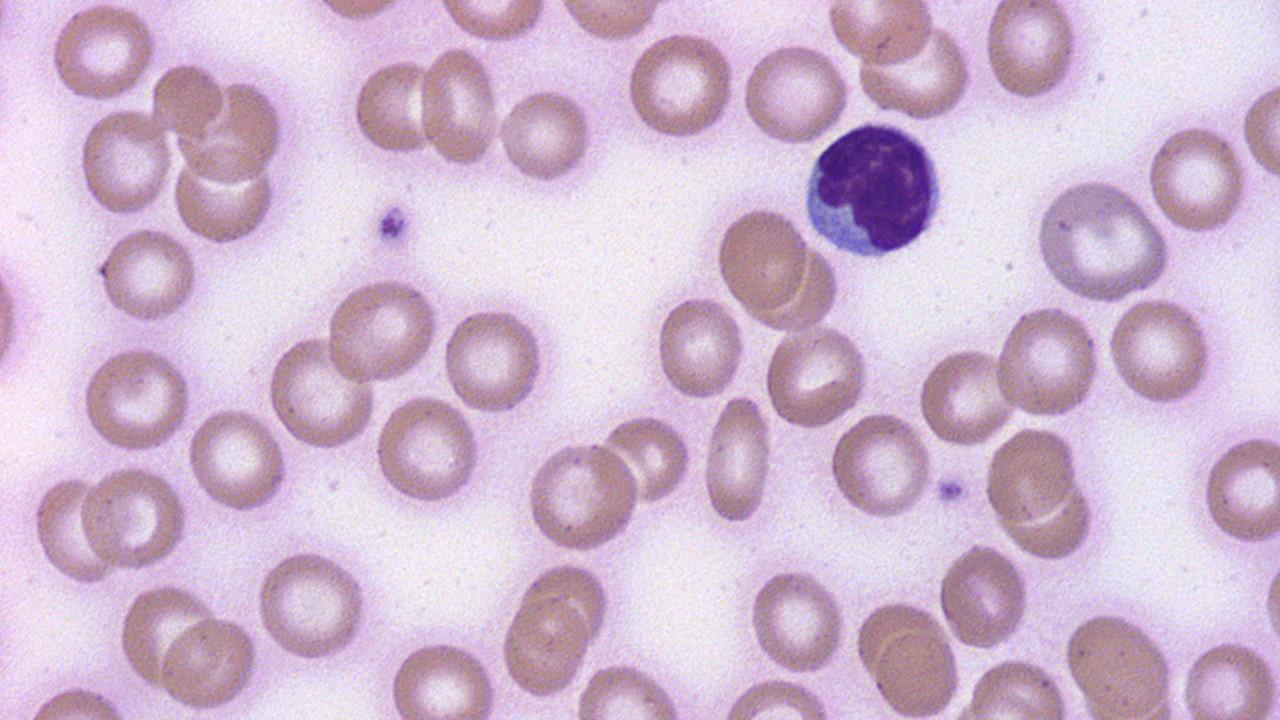Platelets: (932, 471, 972, 507)
RBC: (1033, 176, 1171, 303), (253, 548, 374, 662), (525, 439, 641, 555), (267, 332, 379, 452), (992, 303, 1104, 422), (324, 277, 442, 386), (1063, 606, 1177, 718), (1105, 294, 1217, 408), (79, 344, 193, 456), (624, 29, 736, 142), (373, 392, 482, 508), (172, 77, 288, 185), (79, 462, 190, 572), (762, 321, 874, 430), (440, 301, 546, 416), (740, 40, 852, 148), (1144, 122, 1250, 236), (828, 411, 936, 521), (858, 22, 974, 123), (745, 566, 850, 676), (186, 404, 290, 515), (119, 582, 220, 696), (175, 141, 281, 247), (914, 344, 1020, 448), (77, 107, 175, 219), (416, 44, 502, 170), (50, 3, 156, 104), (94, 226, 202, 325), (713, 204, 811, 312), (937, 542, 1033, 652), (980, 1, 1080, 106), (652, 293, 748, 402), (497, 591, 593, 699), (497, 85, 596, 189), (157, 614, 262, 712), (31, 472, 119, 586), (700, 394, 776, 524), (350, 55, 443, 160), (1200, 428, 1280, 550), (982, 424, 1080, 522), (994, 472, 1098, 562), (598, 412, 694, 508), (385, 638, 501, 716), (872, 622, 964, 718), (1178, 636, 1280, 717), (824, 2, 934, 69), (572, 658, 692, 718), (149, 60, 228, 140), (716, 676, 840, 718), (434, 1, 551, 45), (0, 230, 27, 411), (556, 1, 668, 44), (1240, 70, 1280, 189), (301, 0, 414, 26), (1260, 546, 1280, 670)
WBC: (684, 8, 1273, 675), (799, 117, 951, 264)
